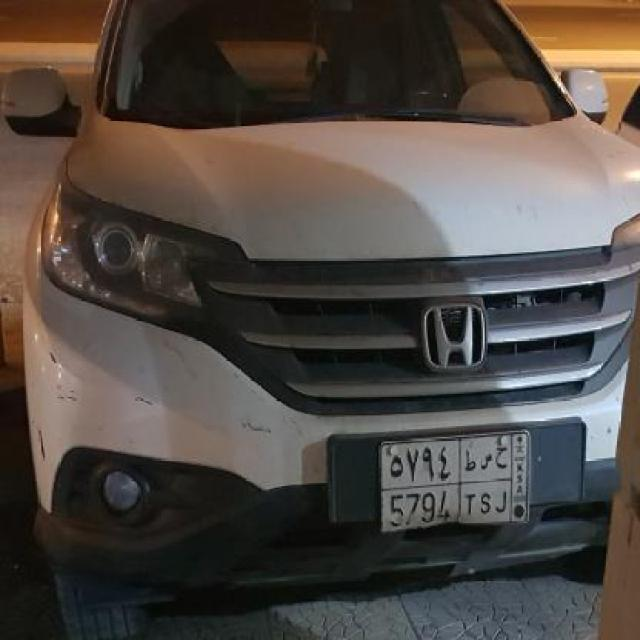license_plate: (377, 427, 532, 536)
